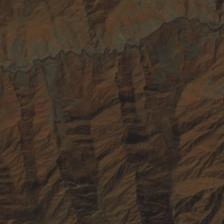landslides: (111, 160, 126, 181), (116, 29, 127, 45), (42, 181, 57, 192)
